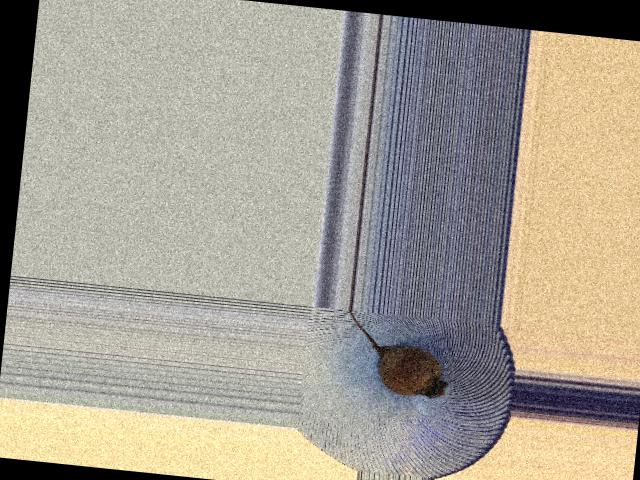beet: (341, 309, 455, 399)
